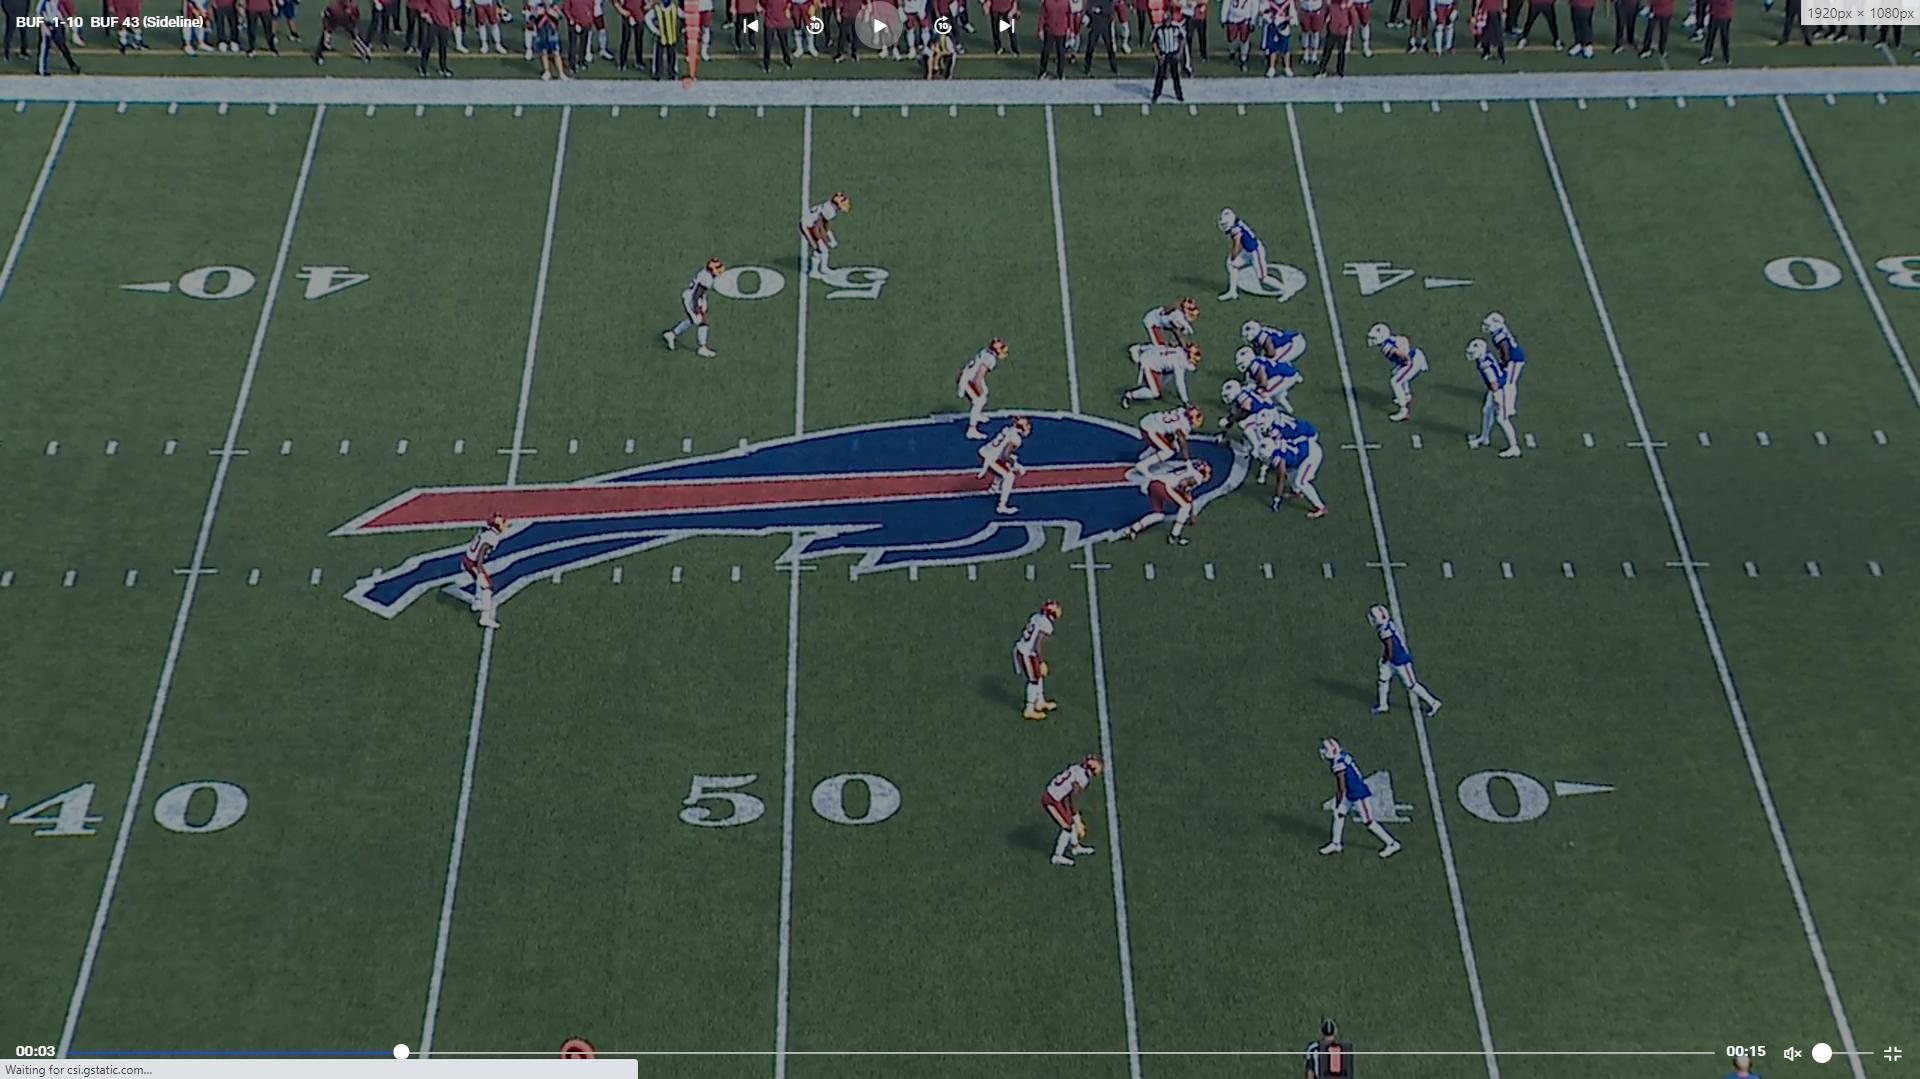player: (1315, 732, 1416, 863), (1359, 599, 1452, 723), (1009, 594, 1077, 725), (1041, 754, 1106, 873), (1128, 461, 1214, 549), (663, 255, 731, 364), (1254, 432, 1332, 525), (1469, 338, 1527, 461), (1367, 316, 1430, 425), (1217, 205, 1281, 305), (952, 333, 1010, 442), (1474, 307, 1528, 423), (1119, 343, 1208, 412), (983, 421, 1040, 523), (464, 518, 510, 638), (800, 192, 854, 288), (1127, 295, 1203, 363), (1133, 401, 1205, 468), (1239, 353, 1302, 419), (1222, 379, 1286, 443), (1245, 412, 1317, 455), (1242, 318, 1307, 365)
ref: (1145, 10, 1196, 110)
